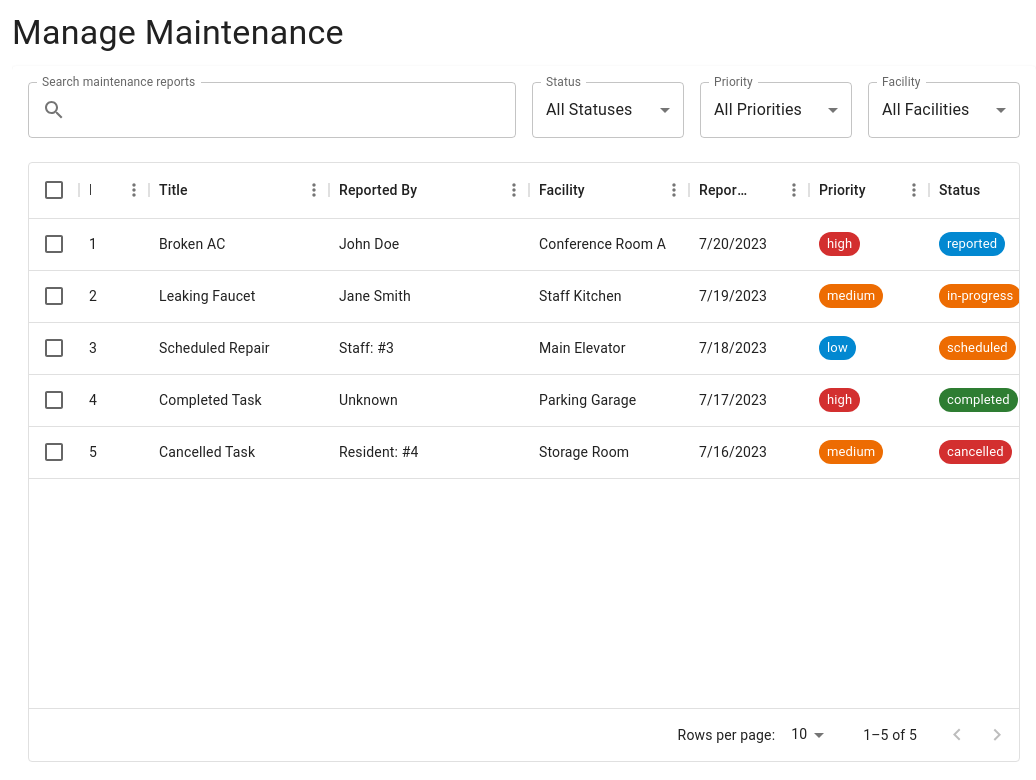
Scenario: ManageMaintenancePage › filters reports by title search term
Check: the text "Broken AC" is shown, box x1=159 y1=234 x2=225 y2=254
Type "AC" into the field labelled "Search maintenance reports".
click(295, 110); type("AC")  # box x1=74 y1=82 x2=516 y2=138
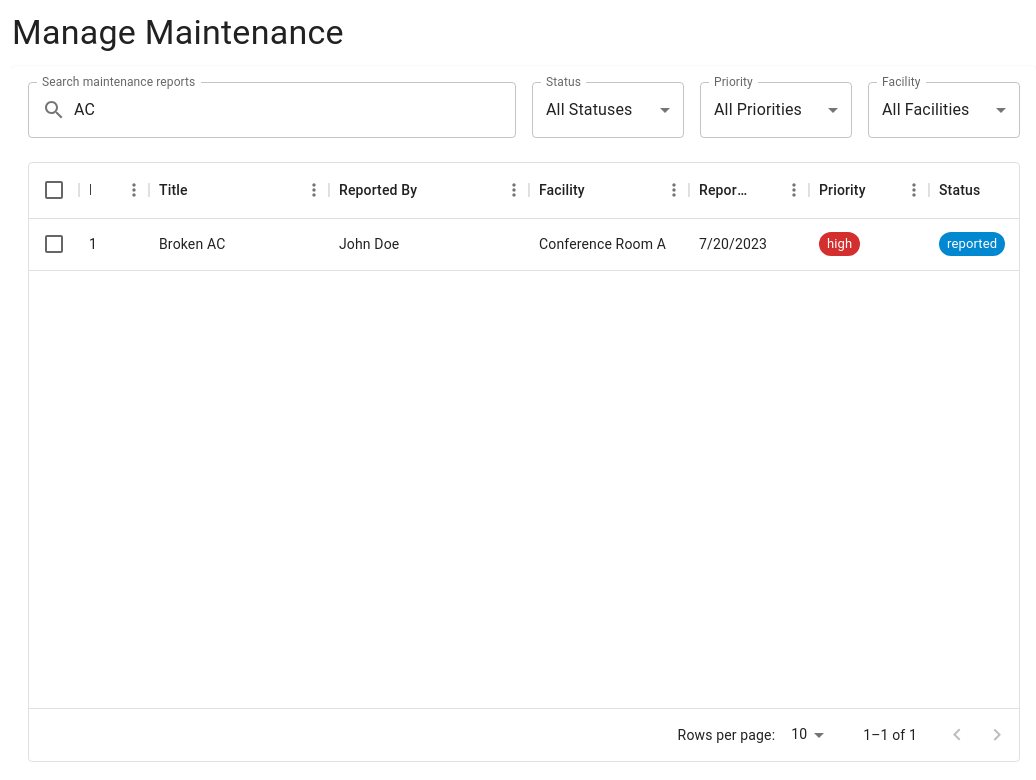
Check: the text "Broken AC" is shown, box x1=159 y1=234 x2=225 y2=254
Check: the text "Leaking Faucet" is gone
